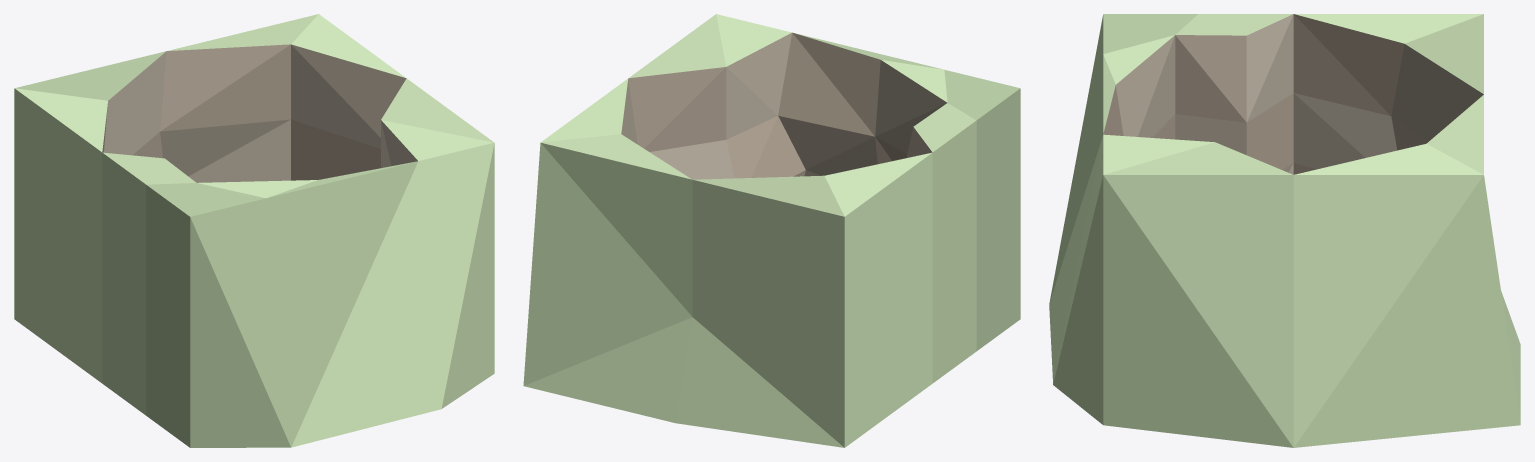
File: Quarry1.fbx
The picture shows the model from 3 angles, left to right: view 1: azimuth 30°, elevation 25°; view 2: azimuth 150°, elevation 25°; view 3: azimuth 270°, elevation 25°; orthographic projection. The views are drawn at different scales.
Parts seen in each view (by area): view 1: Quarry1; view 2: Quarry1; view 3: Quarry1.
Boxes of the visible parts, x1,y1,x2,y2 form: Quarry1: (14, 14, 494, 447); Quarry1: (523, 14, 1020, 447); Quarry1: (1049, 14, 1520, 447).
Bounding box in the file's own units: 57.05 × 36.64 × 61.93.
